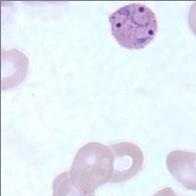Infected: (107, 3, 157, 50)
Uninfected: (69, 142, 116, 191), (103, 142, 144, 182), (166, 150, 196, 190), (0, 48, 28, 90)
